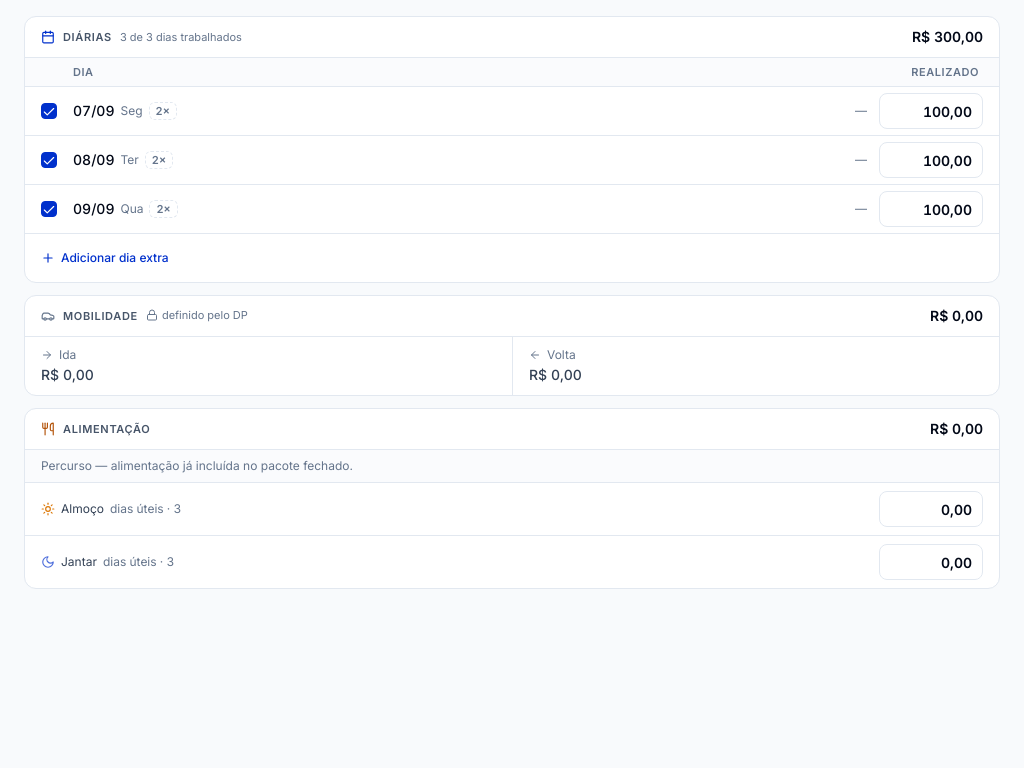
Scenario: grade de dias do Realizado — dobra de turno (29/10) › sem ser do DP, marca o 2× no dia (prestação aberta): o botão fica pressionado, a linha de Diárias diz '1 dobra' e o valor do dia dobra
Click the button named "Dobra de turno (2 diárias no dia) em 08/09" at (159, 160), box [145,151,173,169]
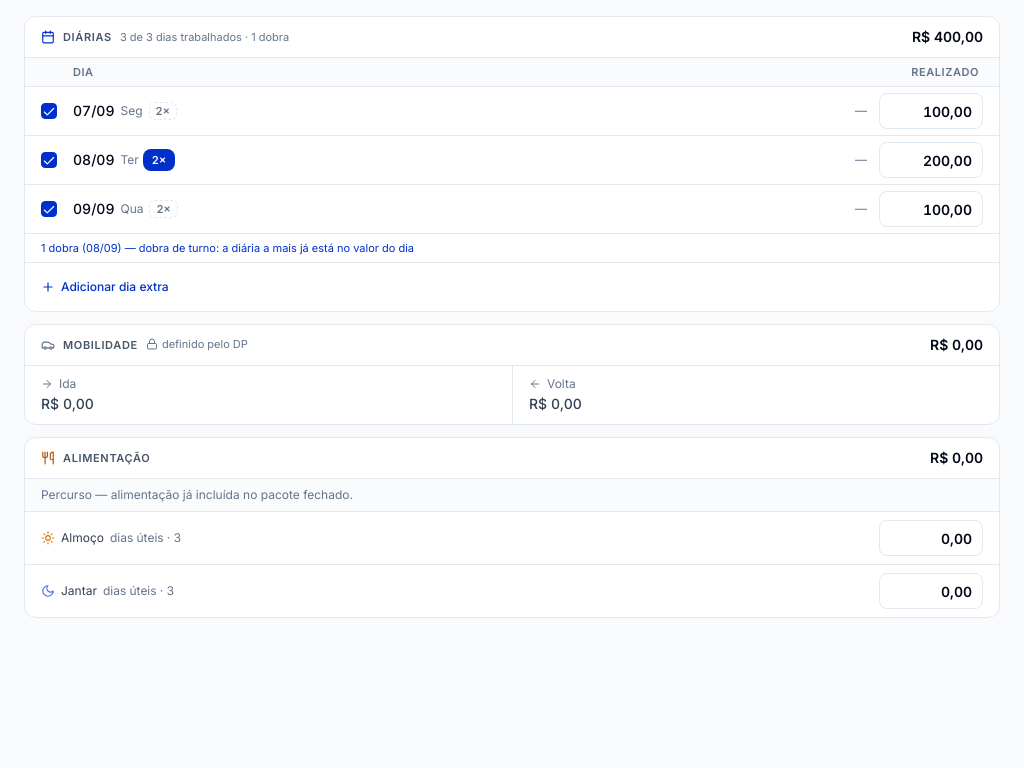
Expected: the text "3 de 3 dias trabalhados · 1 dobra" is shown, [120,29,289,45]
Expected: the text with test id "rea-resumo-dobra" shows "1 dobra (08/09)", [41,241,122,255]
Expected: the field named "Diária realizada em 08/09" holds "200,00", [879,142,983,178]
Click the button named "Dobra de turno (2 diárias no dia) em 08/09" at (159, 160), box [145,151,173,169]
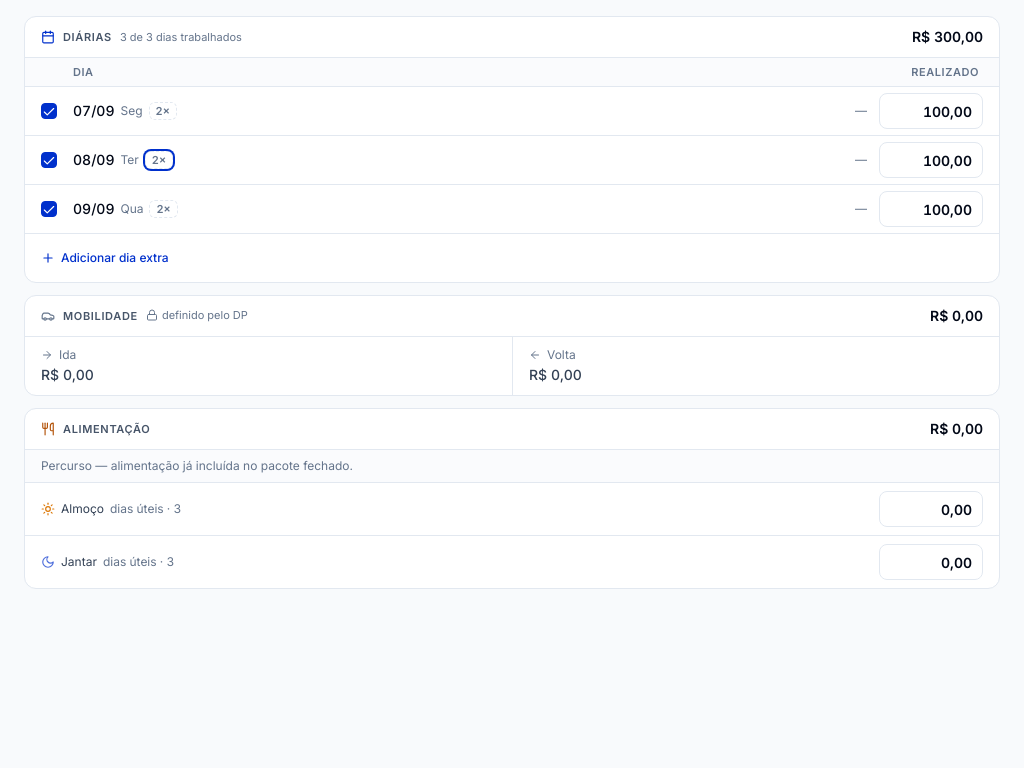
Expected: the text with test id "rea-resumo-dobra" is gone
